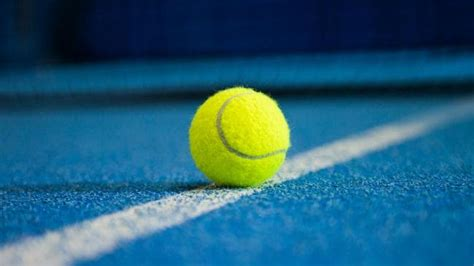tennis_ball: (187, 85, 291, 187)
